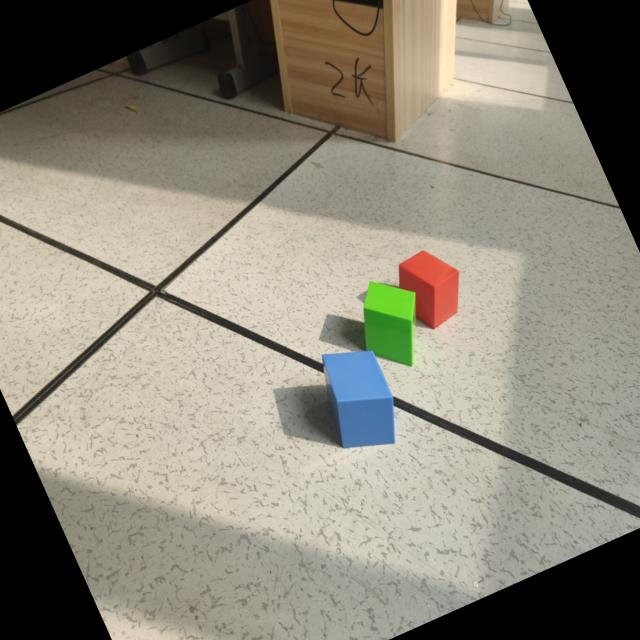blue: (322, 352, 397, 450)
green: (361, 283, 420, 368)
red: (397, 251, 462, 331)
